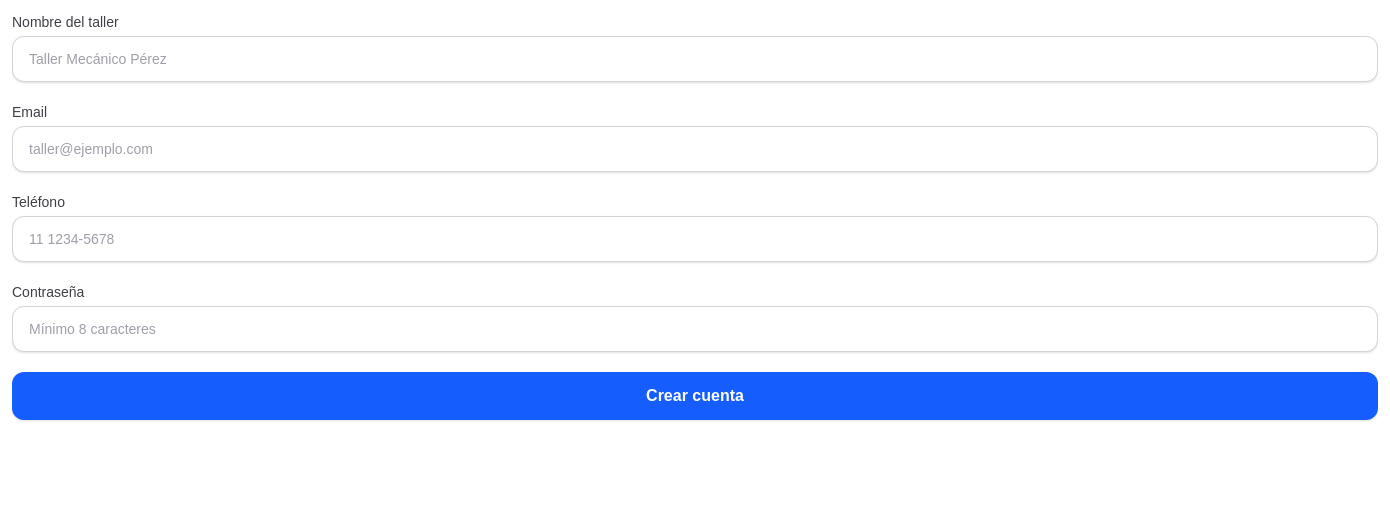
RegisterForm › validation › shows password error when too short
Type "test@test.com" into the field labelled "Email". click: (695, 149)
box: [12,126,1378,172]
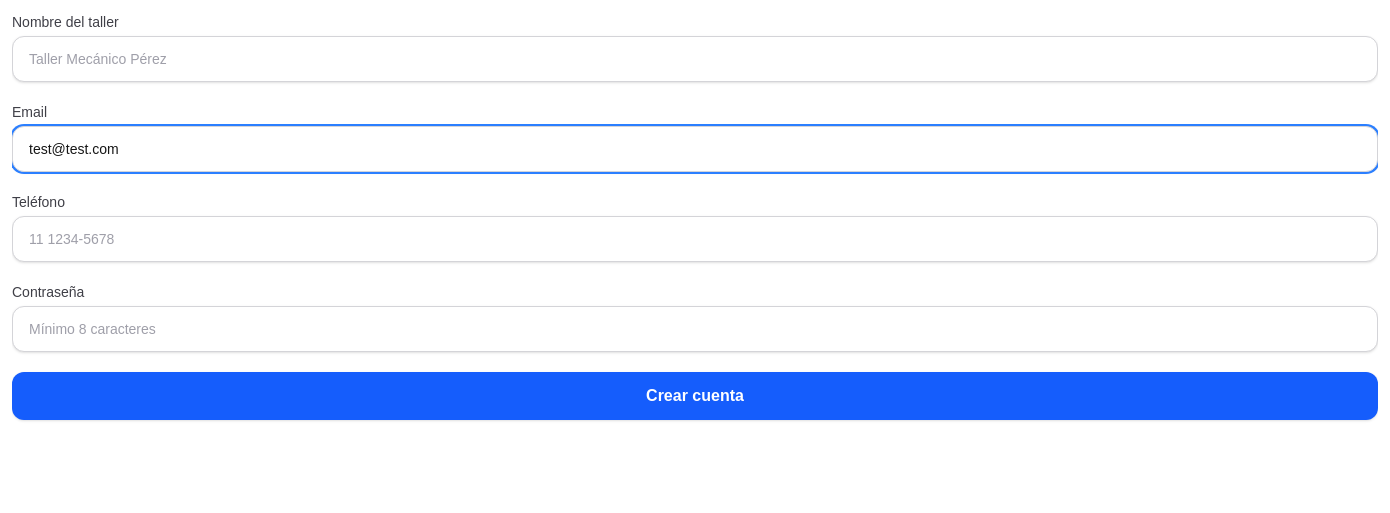
Type "1234567" into the password field labelled "Contraseña". click: (695, 329)
box: [12,306,1378,352]
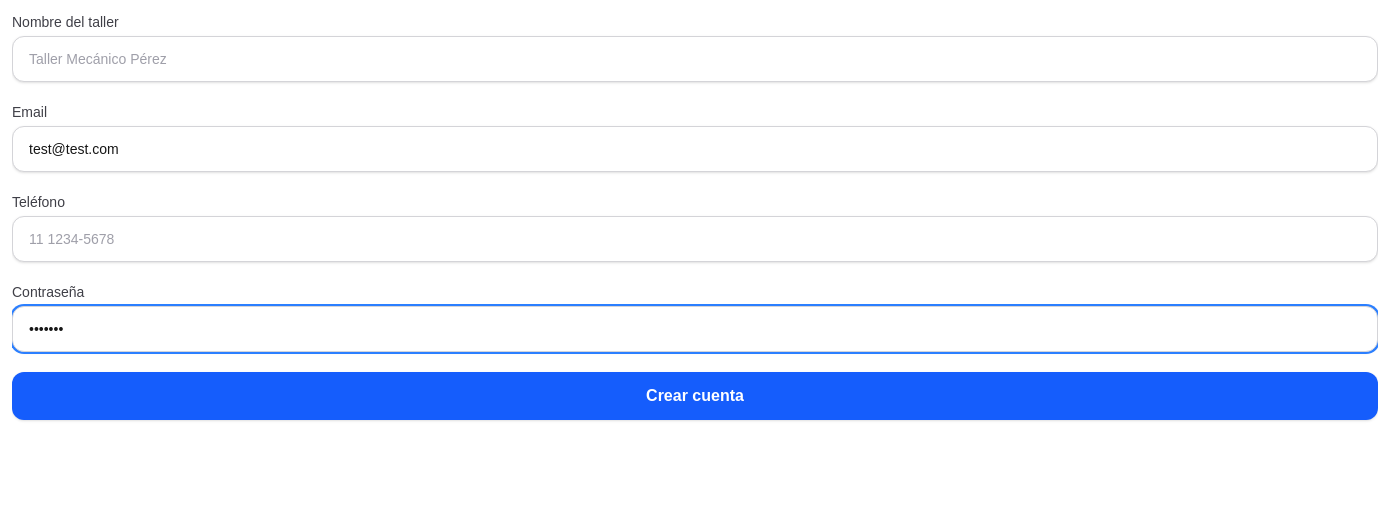
Click the button "Crear cuenta". click: (695, 396)
box: [12,372,1378,420]
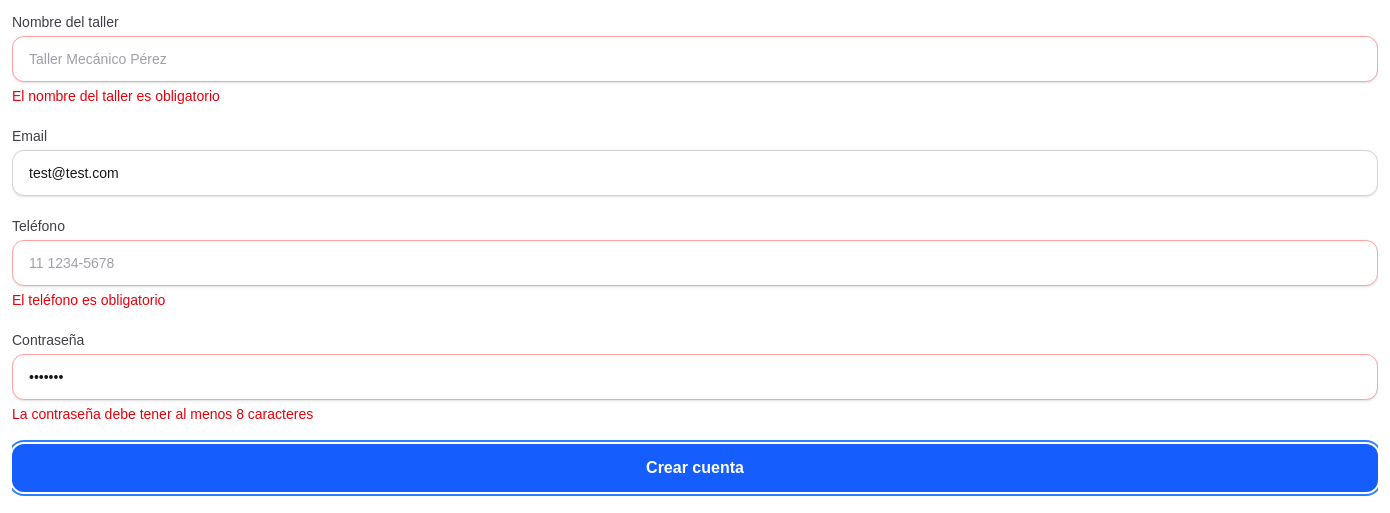
Expected: the text "La contraseña debe tener al menos 8 caracteres" is shown, [12,406,313,422]
